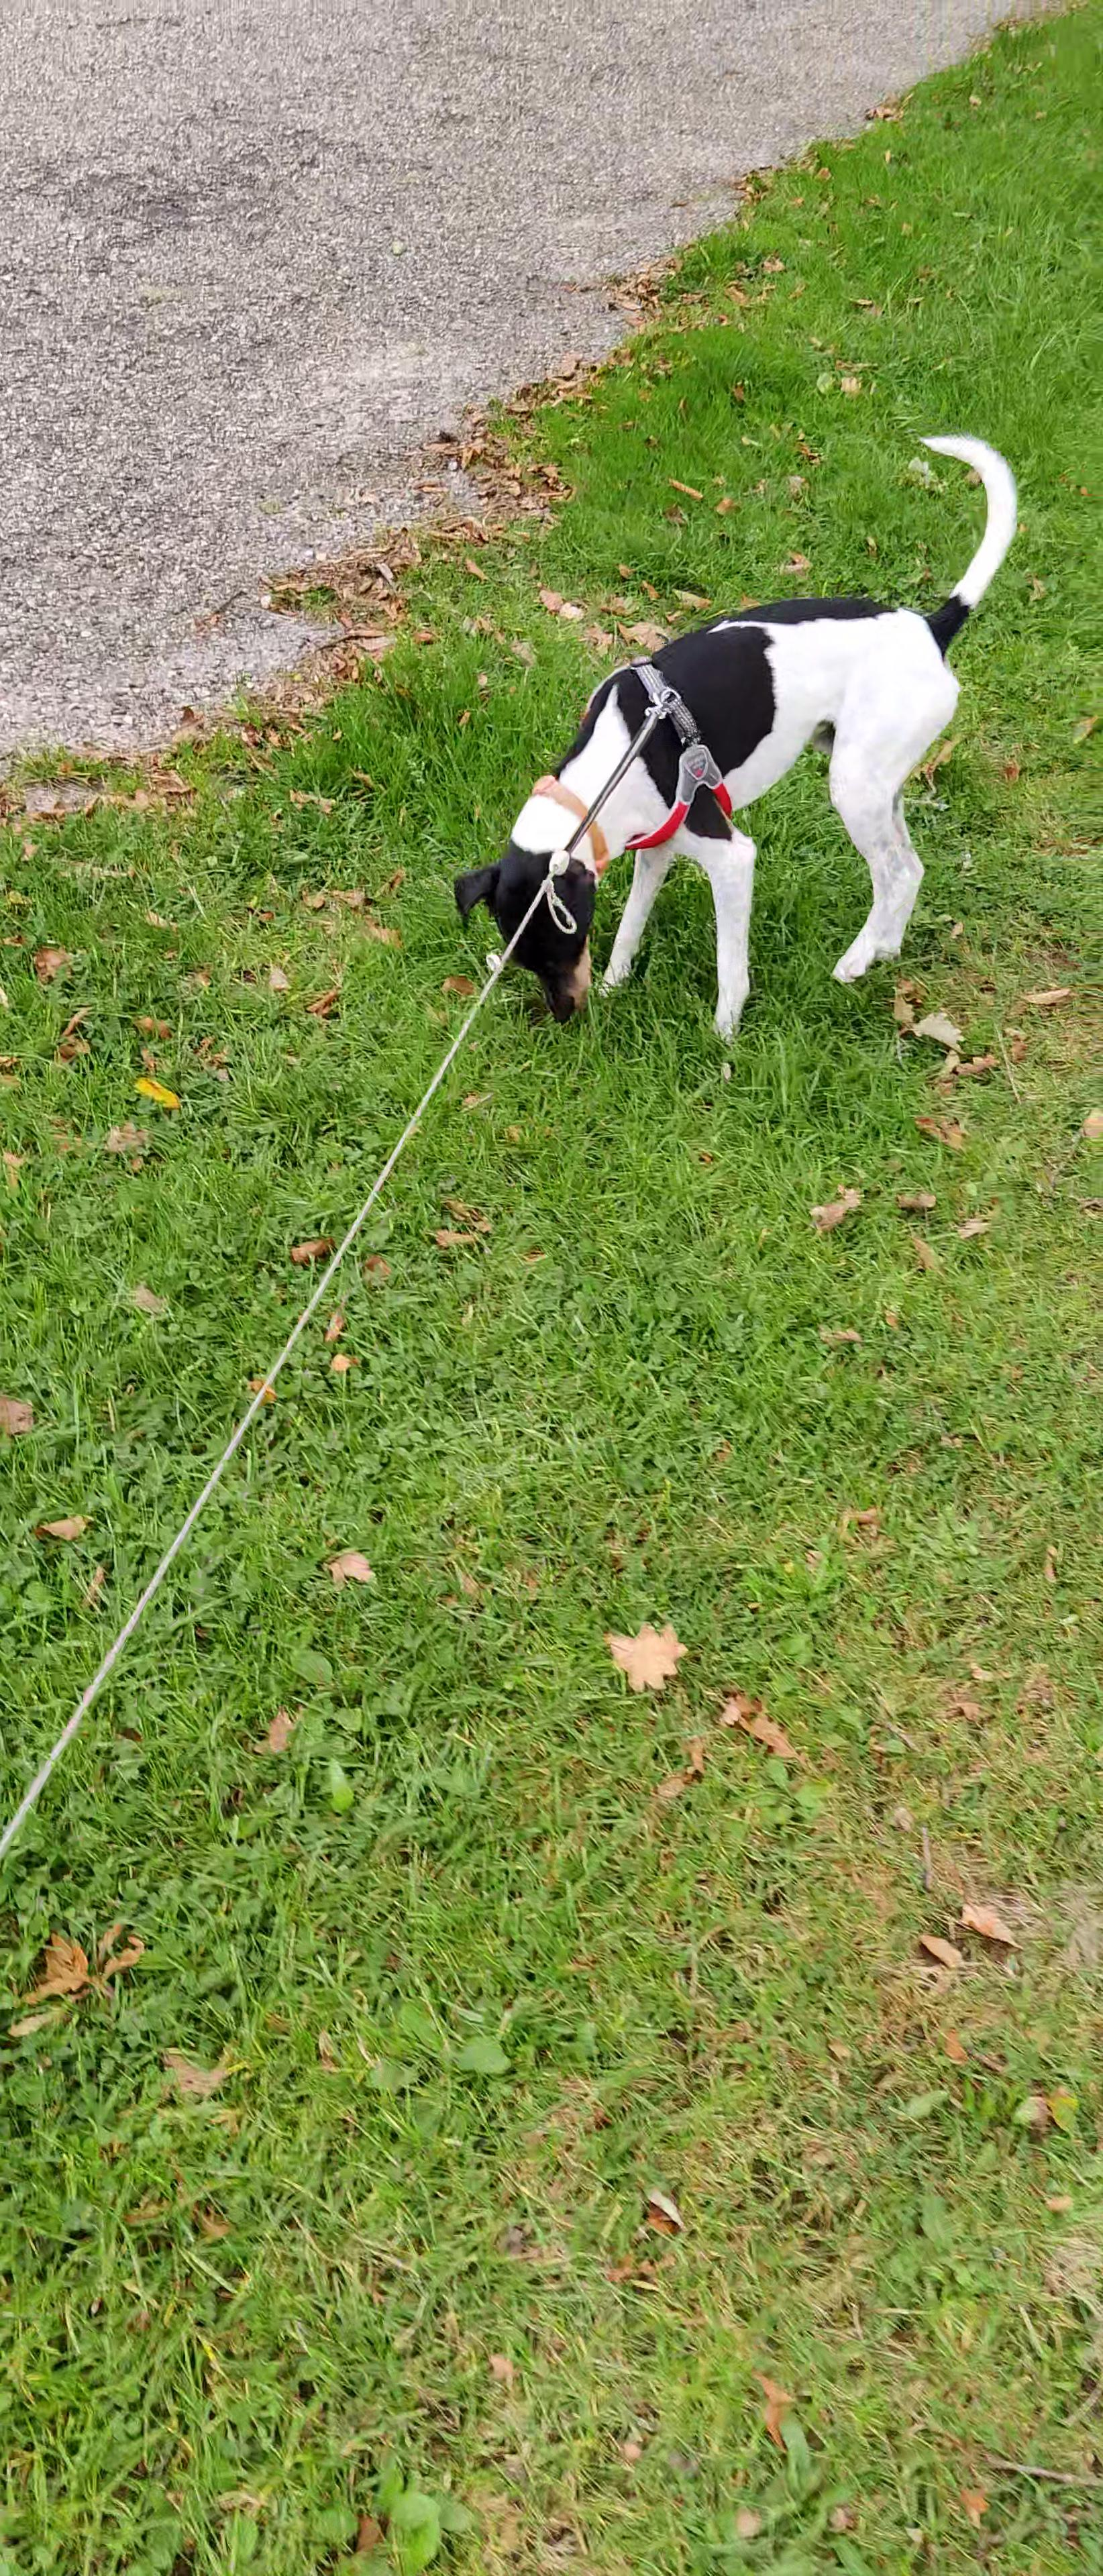Dog: (442, 422, 1034, 1055)
